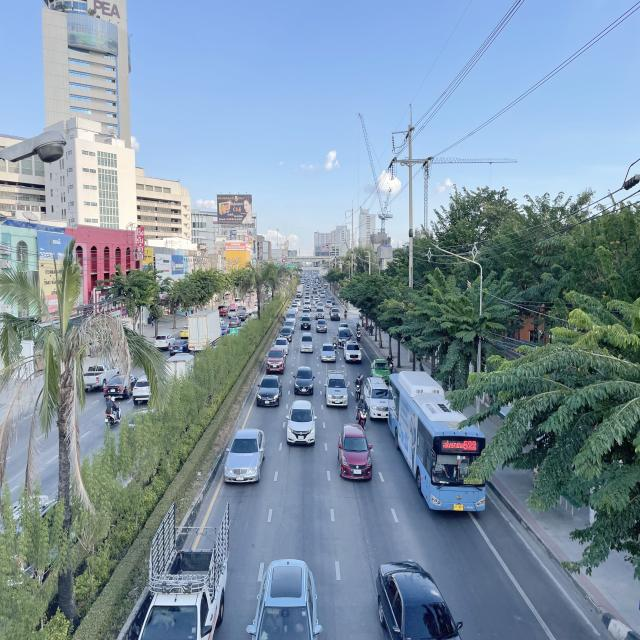bike: (356, 395, 368, 429), (354, 372, 364, 402), (387, 354, 394, 374), (332, 335, 338, 352), (356, 328, 361, 342), (343, 308, 348, 320)
bus: (388, 372, 486, 513)
car: (374, 559, 464, 640), (247, 556, 323, 640), (222, 426, 266, 484), (336, 422, 373, 482), (284, 399, 318, 447), (256, 375, 283, 407), (293, 366, 315, 396), (370, 358, 392, 384)
truck: (132, 499, 231, 640), (363, 377, 391, 420), (325, 364, 350, 409)
